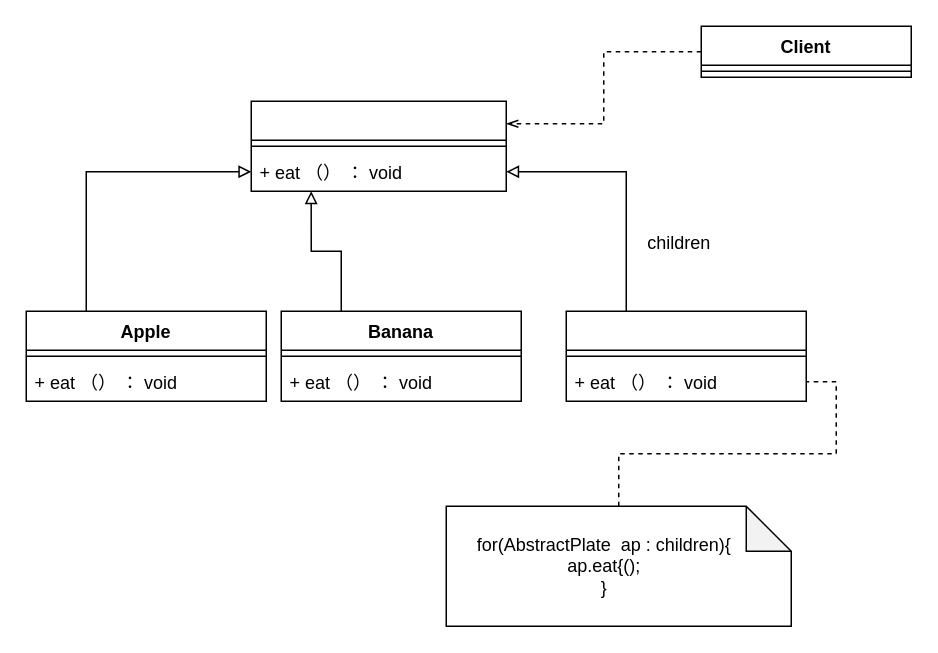
This 938x653 diagram has some shape labels left out. Here are the shapes that lost their labels. From the top down, the box of each, then its label:
(250, 100, 506, 191): AbstractPlate
(565, 310, 806, 401): AbstractFruit
